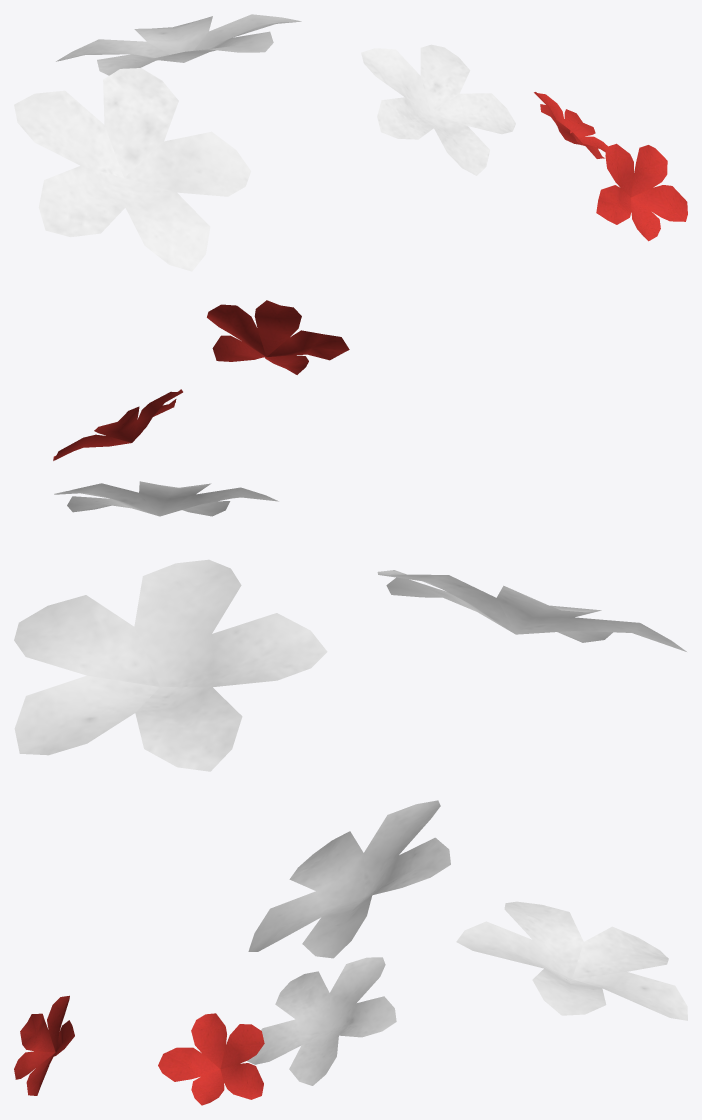
Rendered from Flower_bunch_02.fbx.
3 views of the same model, one above another, from view 1: azimuth 30°, elevation 25°; view 2: azimuth 150°, elevation 25°; view 3: azimuth 270°, elevation 25° (orthographic). The views are drawn at different scales.
Visible parts, largest first — view 1: Flower_bunch_02; view 2: Flower_bunch_02; view 3: Flower_bunch_02.
Boxes of the visible parts, left/top/right/bottom form: Flower_bunch_02: left=14, top=14, right=687, bottom=271; Flower_bunch_02: left=14, top=300, right=686, bottom=771; Flower_bunch_02: left=14, top=800, right=687, bottom=1105.
Bounding box in the file's own units: 88.26 × 17.03 × 76.31.
